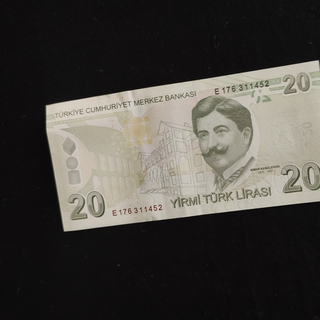20TLBack: (44, 59, 320, 231)
